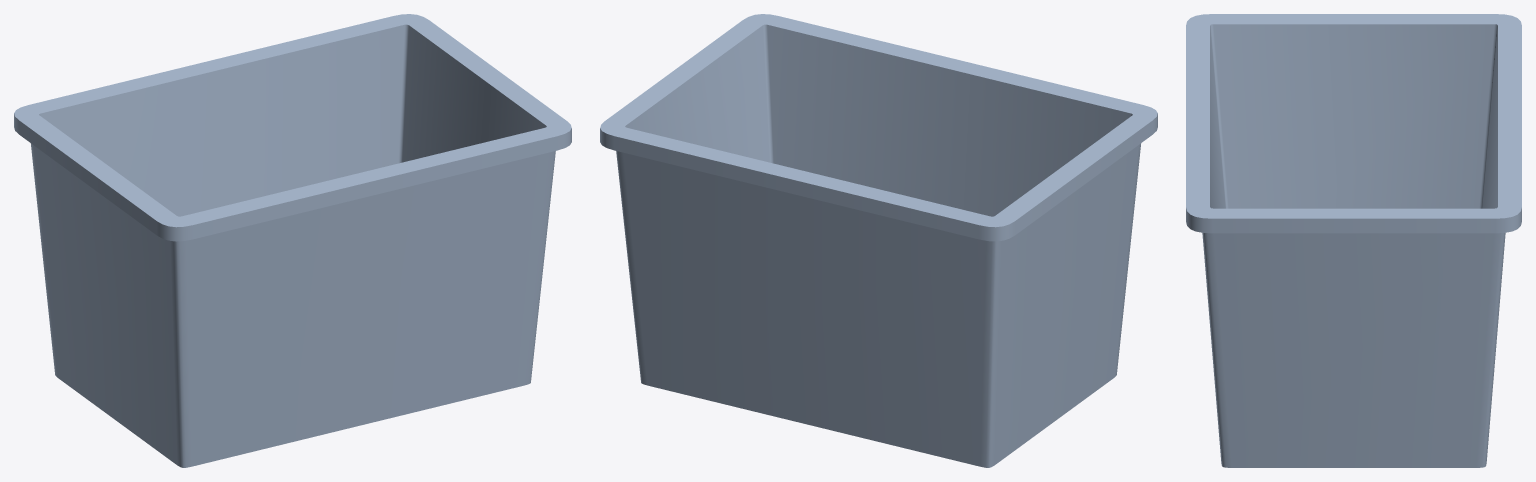
File: container.FBX
The picture shows the model from 3 angles, left to right: view 1: azimuth 30°, elevation 25°; view 2: azimuth 150°, elevation 25°; view 3: azimuth 270°, elevation 25°; orthographic projection. The views are drawn at different scales.
Parts seen in each view (by area): view 1: Box001; view 2: Box001; view 3: Box001.
Part boxes in pixels (x1=…): Box001: x1=14, y1=14, x2=571, y2=467; Box001: x1=600, y1=14, x2=1157, y2=467; Box001: x1=1186, y1=14, x2=1521, y2=467.
Bounding box in the file's own units: 36.36 × 21.86 × 25.21.
Materials: 1 (1 with a texture image).
